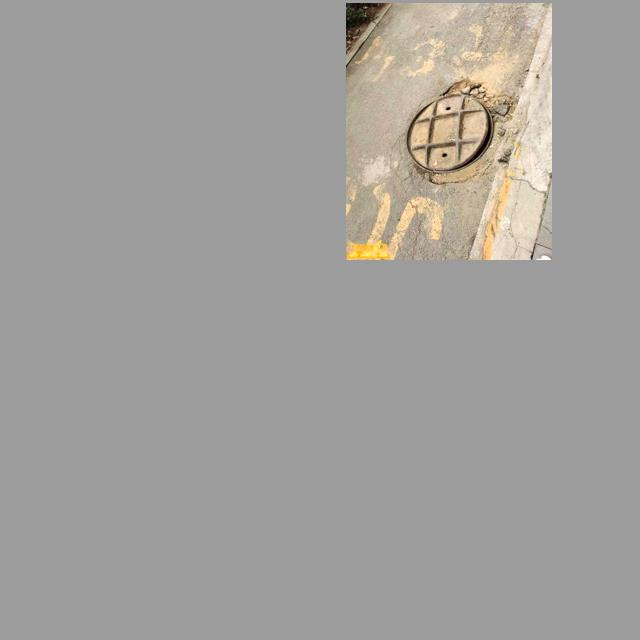circle: (392, 77, 529, 191)
